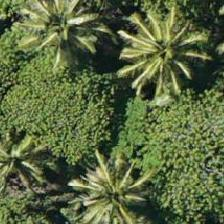coconut_tree: (118, 1, 208, 91), (69, 148, 159, 223), (12, 0, 102, 66), (0, 115, 59, 205)
